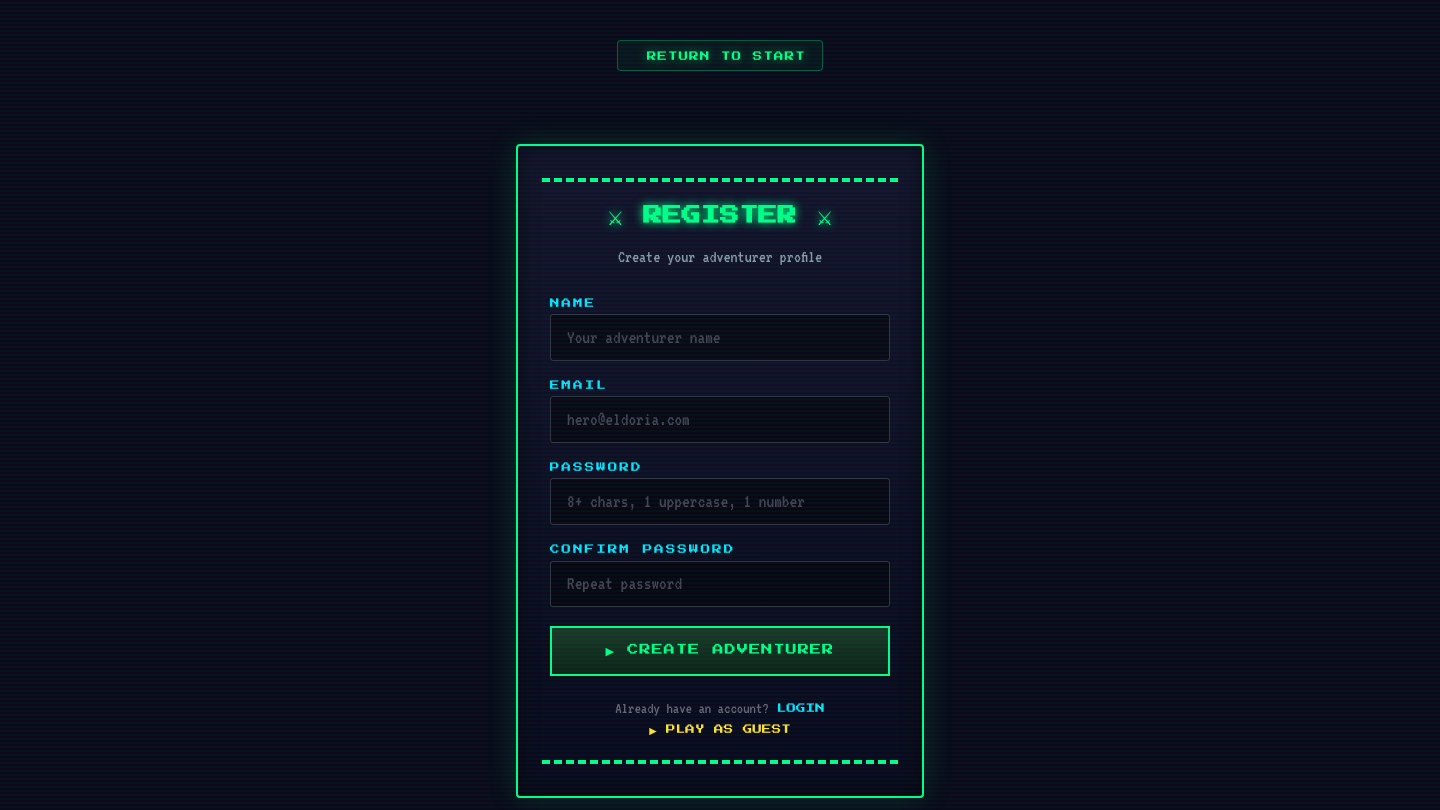
Test case: Register.vue › validates that passwords match
Type "Password123" into the password field with id "reg-password" at {"x": 720, "y": 502}, box [550,478,890,525]
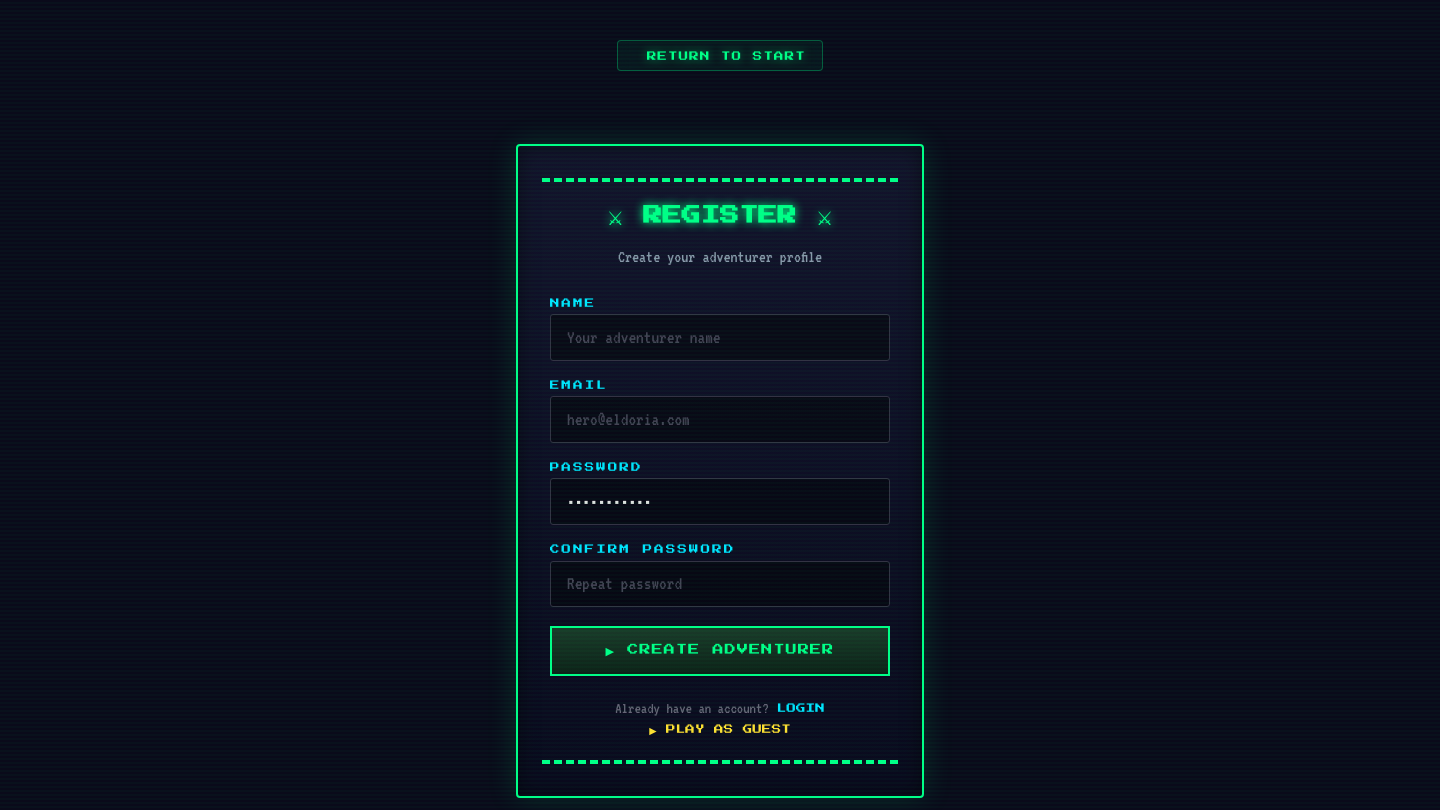
Type "Password456" into the password field with id "reg-confirm" at {"x": 720, "y": 584}, box [550,560,890,607]
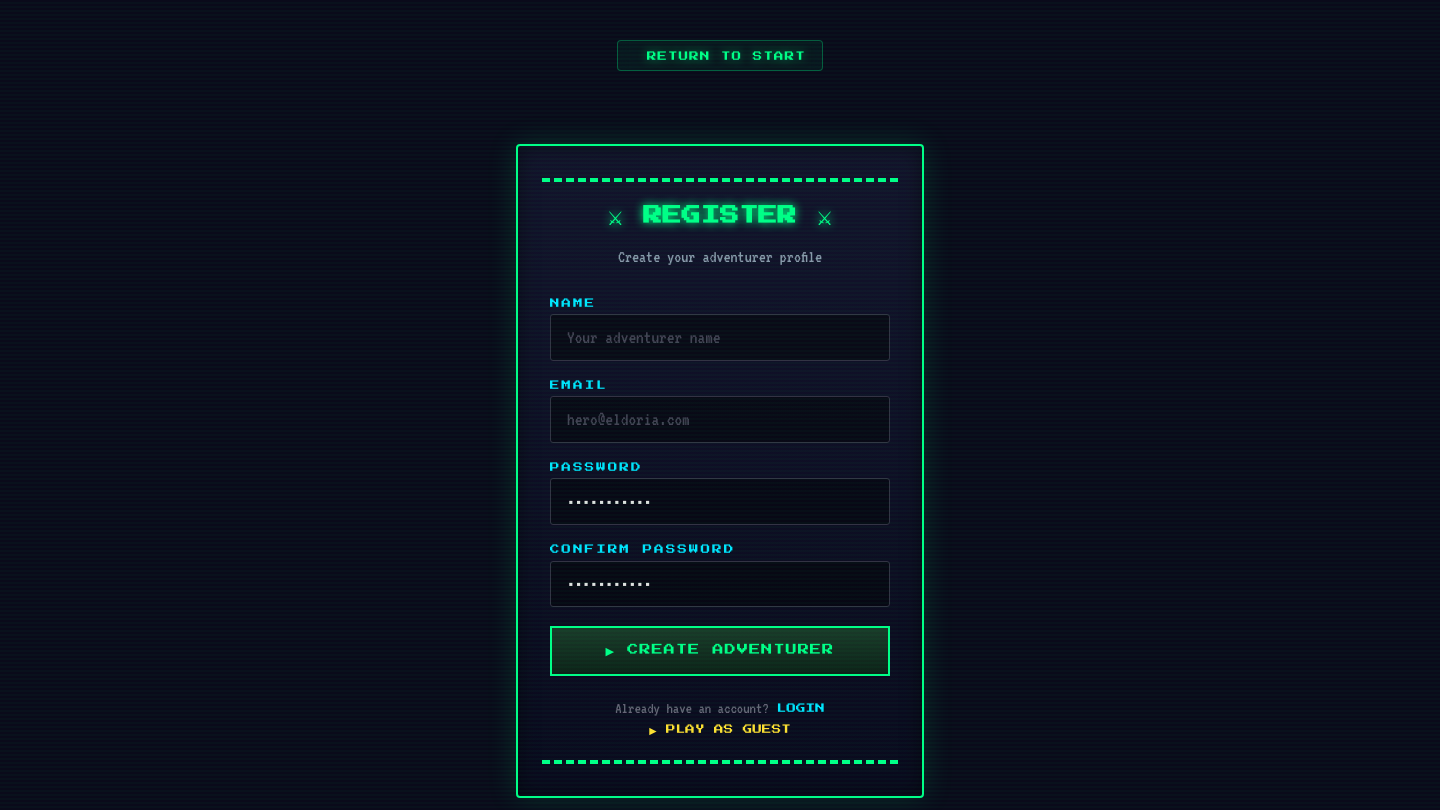
Submit the form, box [550,298,890,676]
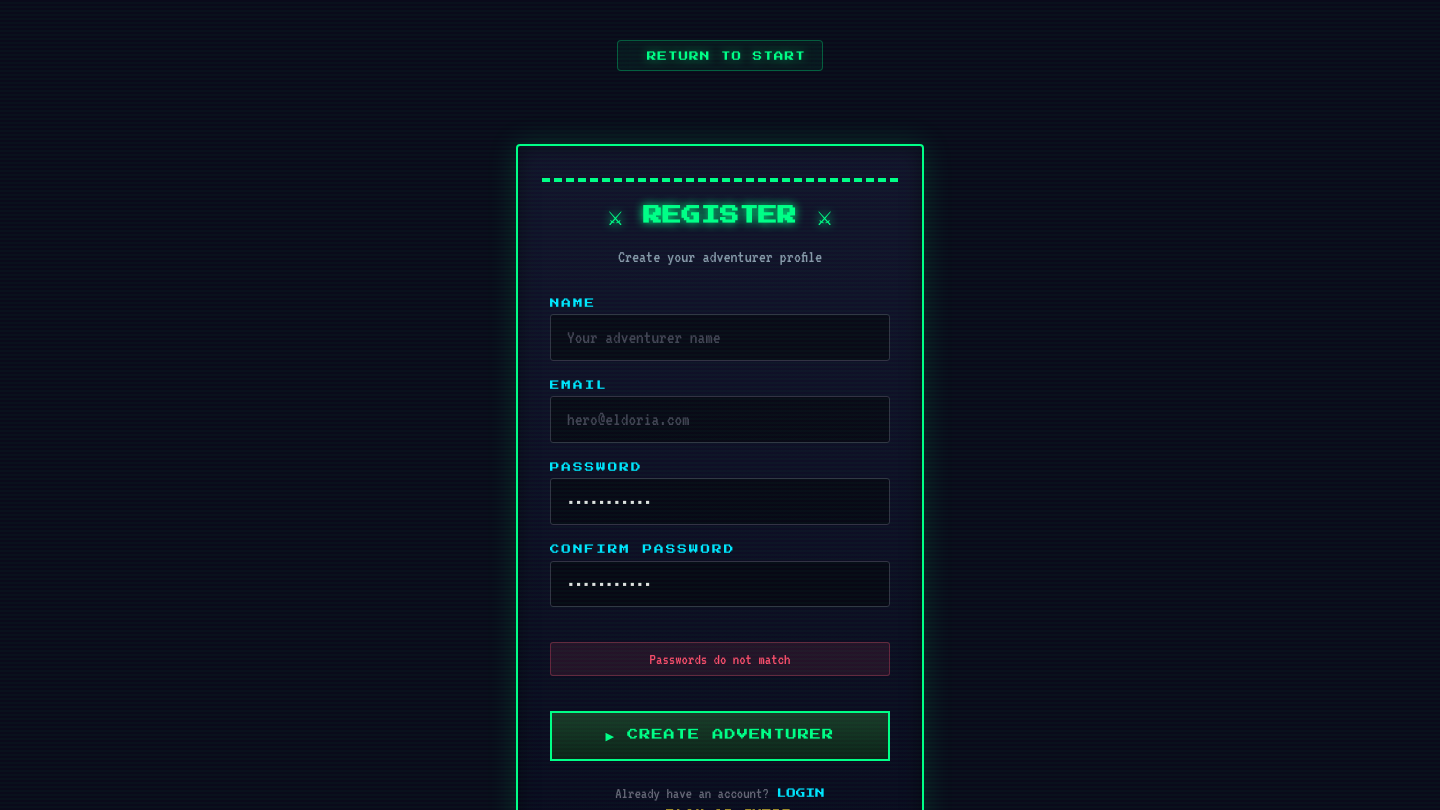
Expected: the text with class "auth-error" reads "Passwords do not match", [650,651,790,667]
